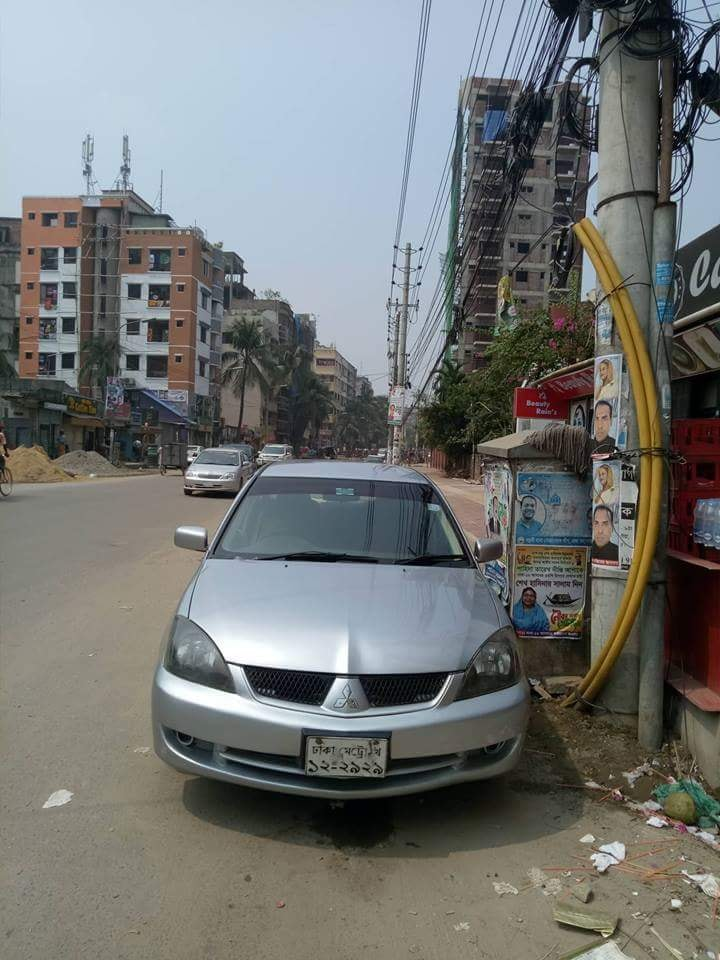registration_plate: (305, 735, 388, 778)
